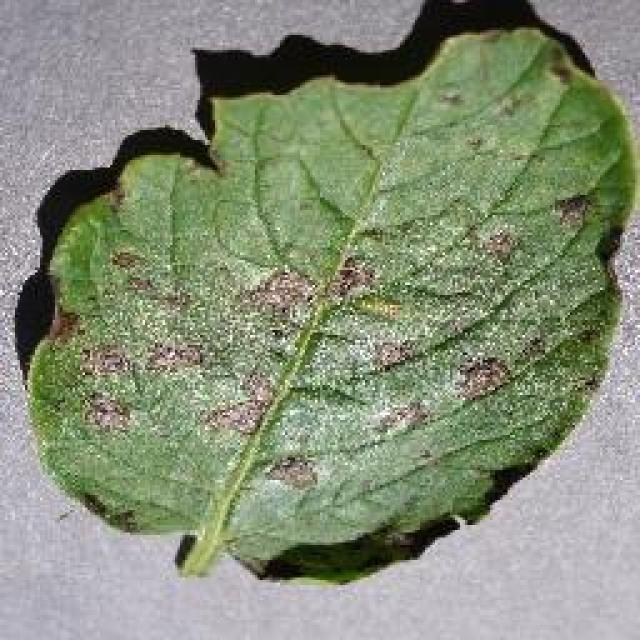Potato: (20, 15, 638, 585)
